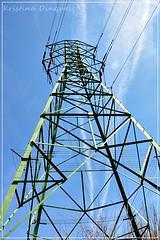power_tower: (8, 37, 159, 240)
